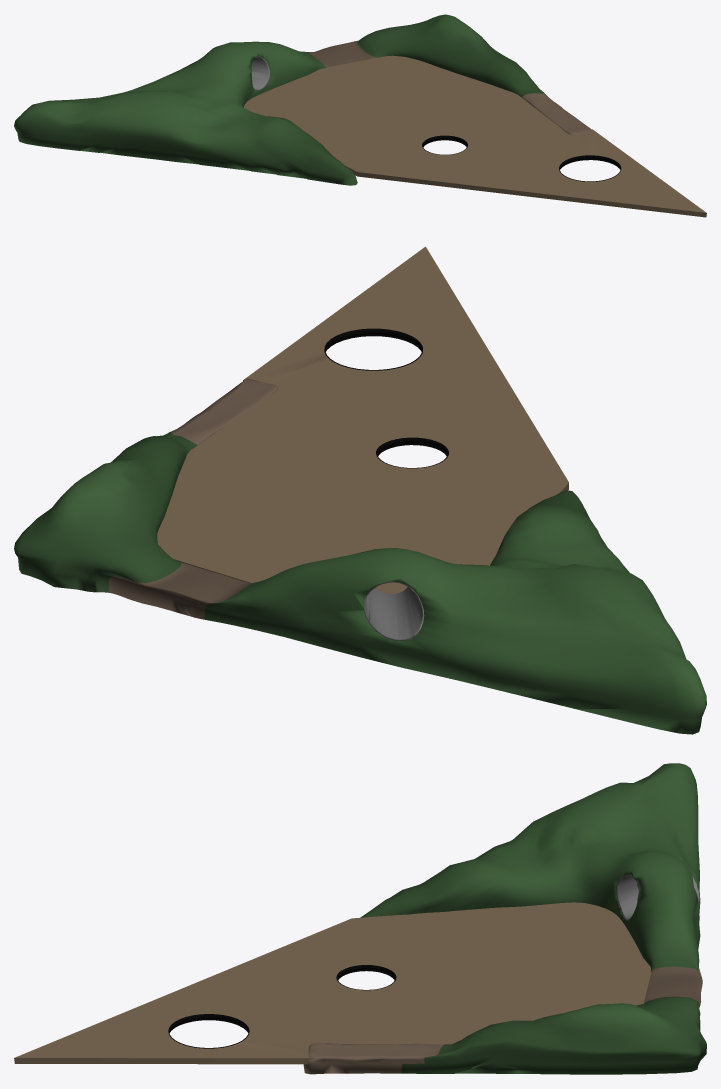
Rendered from Children's playground.fbx.
3 views of the same model, one above another, from view 1: azimuth 30°, elevation 25°; view 2: azimuth 150°, elevation 25°; view 3: azimuth 270°, elevation 25° (orthographic). The views are drawn at different scales.
Parts seen in each view (by area): view 1: Cube.094; view 2: Cube.094; view 3: Cube.094.
Boxes of the visible parts, box(x1,y1,x2,y2) form: Cube.094: box(14, 14, 706, 217); Cube.094: box(14, 246, 706, 734); Cube.094: box(14, 763, 706, 1074).
Bounding box in the file's own units: 29.97 × 31.57 × 3.5.
